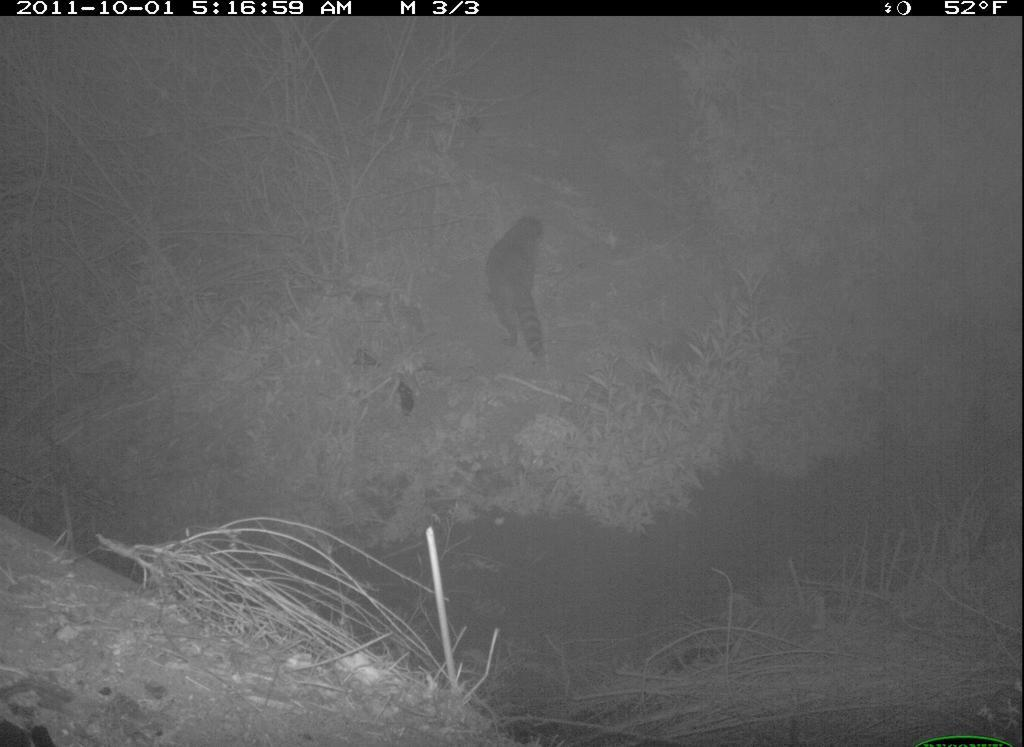raccoon: (472, 200, 565, 373)
